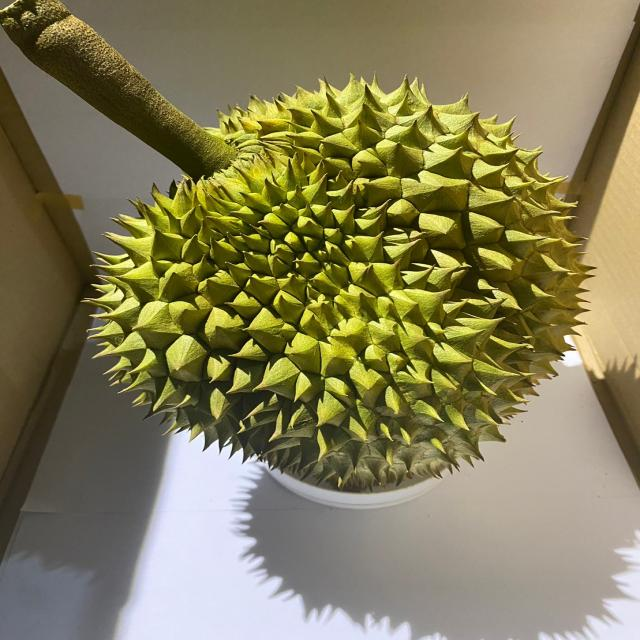immature: (85, 71, 604, 496)
